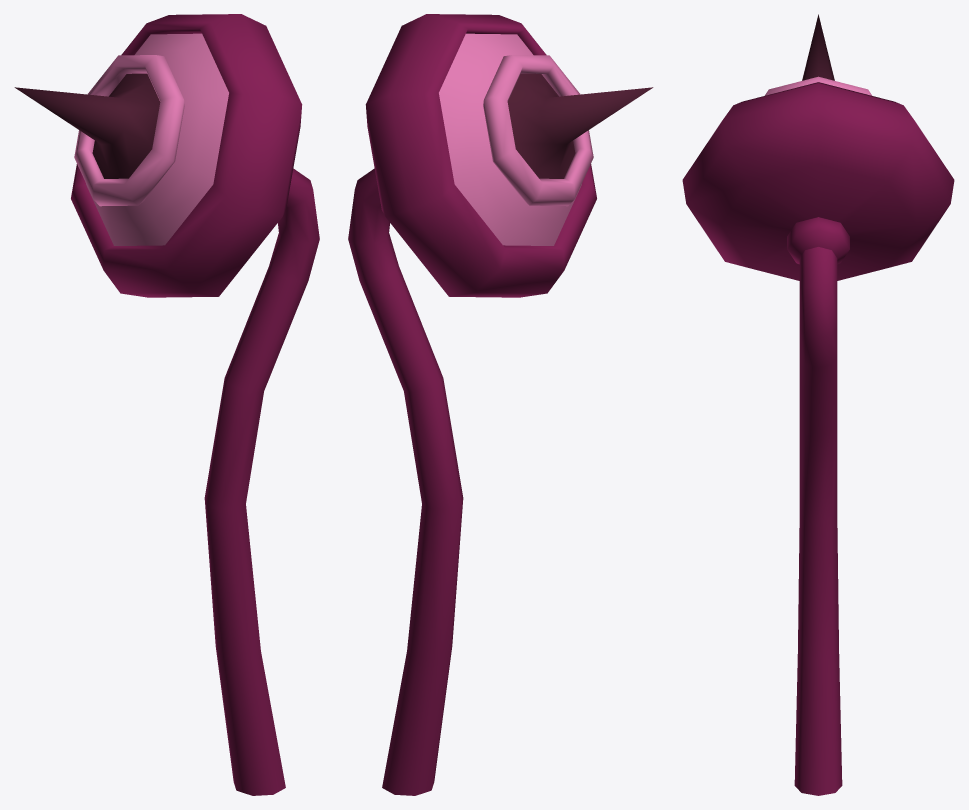
The model's file is Plant_1_1_purple.fbx.
3 views of the same model, side by side, from view 1: azimuth 30°, elevation 25°; view 2: azimuth 150°, elevation 25°; view 3: azimuth 270°, elevation 25° (orthographic). The views are drawn at different scales.
Visible parts, largest first — view 1: Plant_1_1_purple; view 2: Plant_1_1_purple; view 3: Plant_1_1_purple.
Boxes of the visible parts, left/top/right/bottom form: Plant_1_1_purple: left=14, top=14, right=319, bottom=795; Plant_1_1_purple: left=348, top=14, right=653, bottom=795; Plant_1_1_purple: left=682, top=14, right=954, bottom=795.
Size of the model in its own units: 0.9072 by 2.21 by 0.8004.
